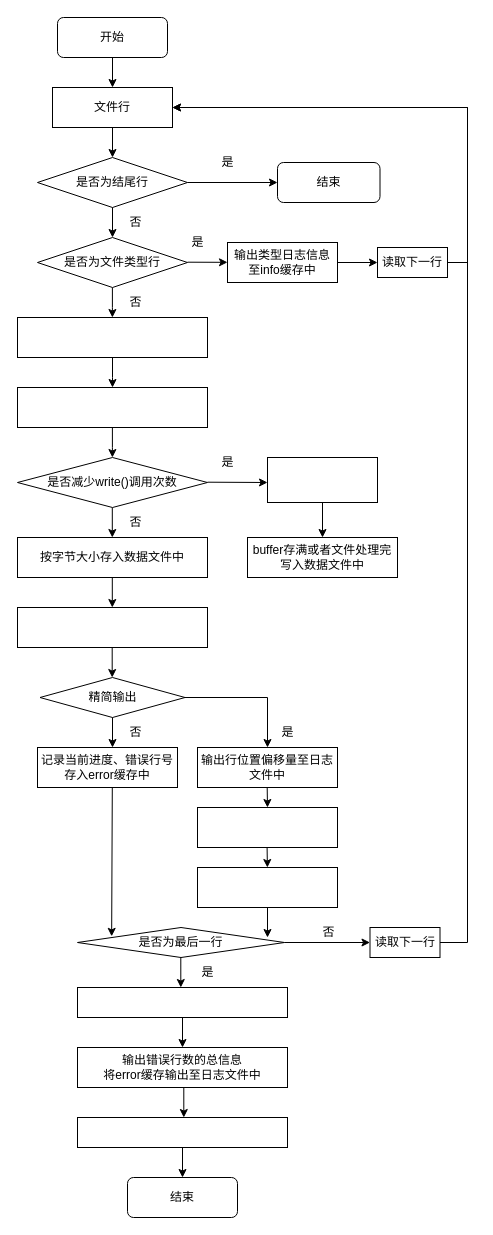
Image size: 493x1235. Some labels were removed from this diagram. Here are the shapes that lost their labels. From the top down, the centre of each, then its label:
pixel 112 337: 将读取的string类型数据 转为十六进制数据
pixel 112 407: 将十六进制数据转为二进制数据
pixel 322 479: 存入buffer_write容量大小的vector中
pixel 112 627: 输出进度信息到终端中
pixel 267 827: 正确行输出. 错误行输出F至日志文件
pixel 267 887: 输出错误日志信息 至error缓存中
pixel 182 1002: 输出正确行数的总信息
pixel 182 1132: 将info缓存输出至日志文件中
